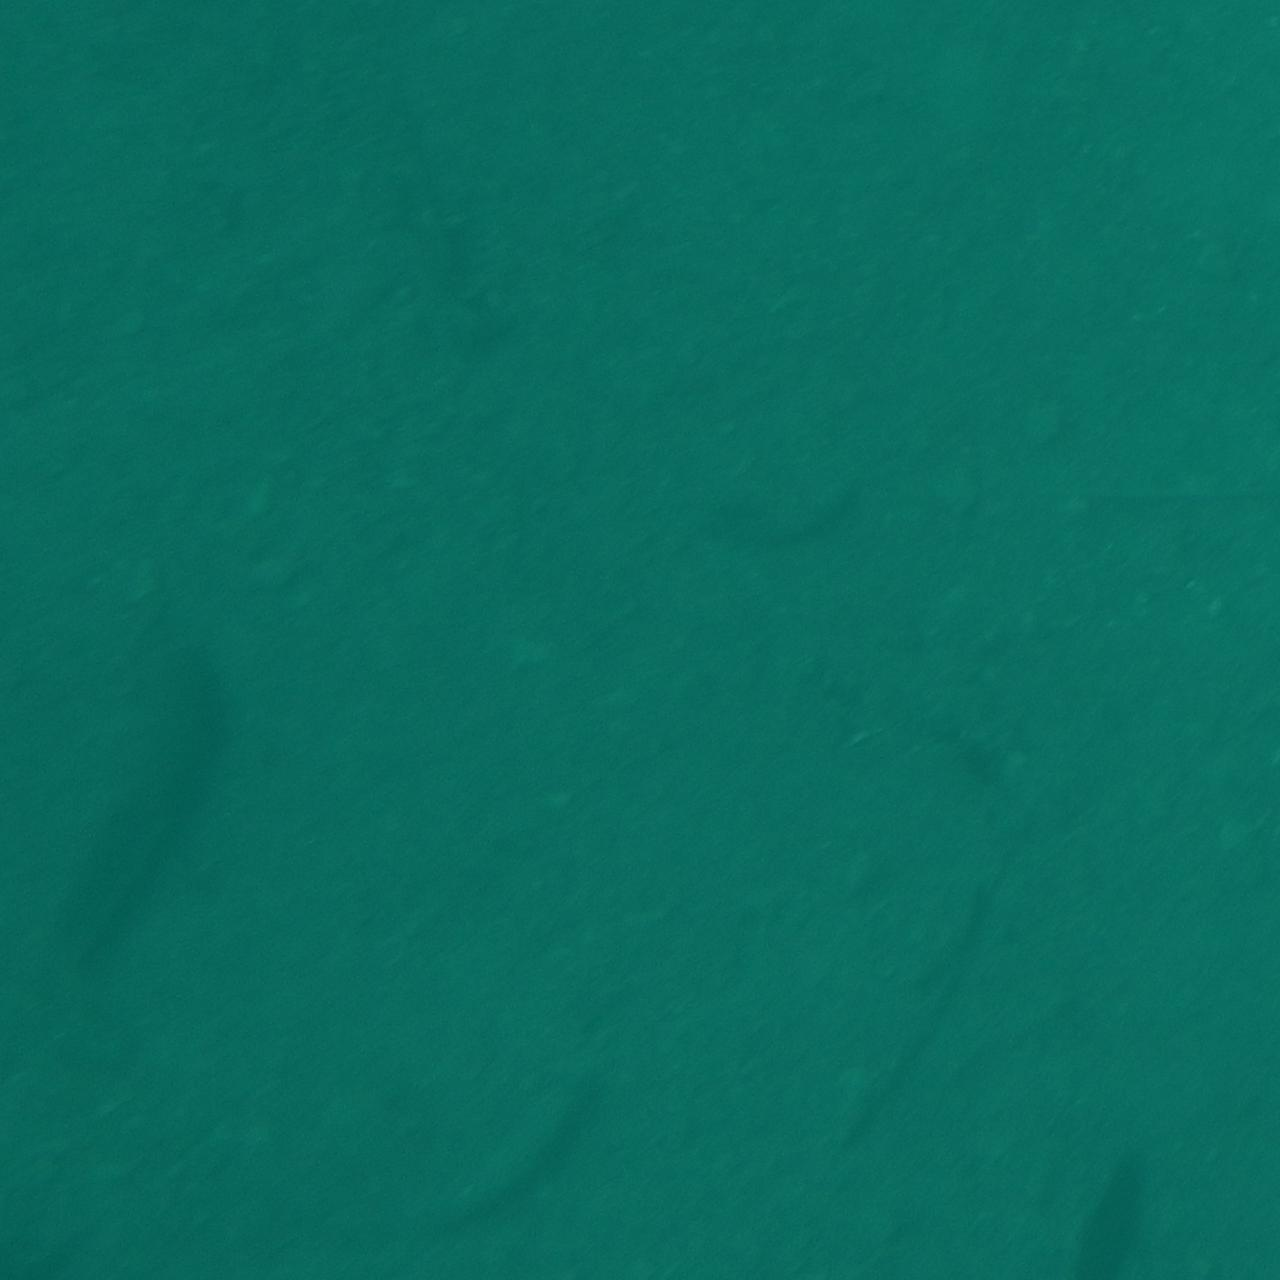Holothuria tubulosa: (35, 620, 252, 978), (367, 1060, 621, 1273), (1073, 1141, 1199, 1279)
